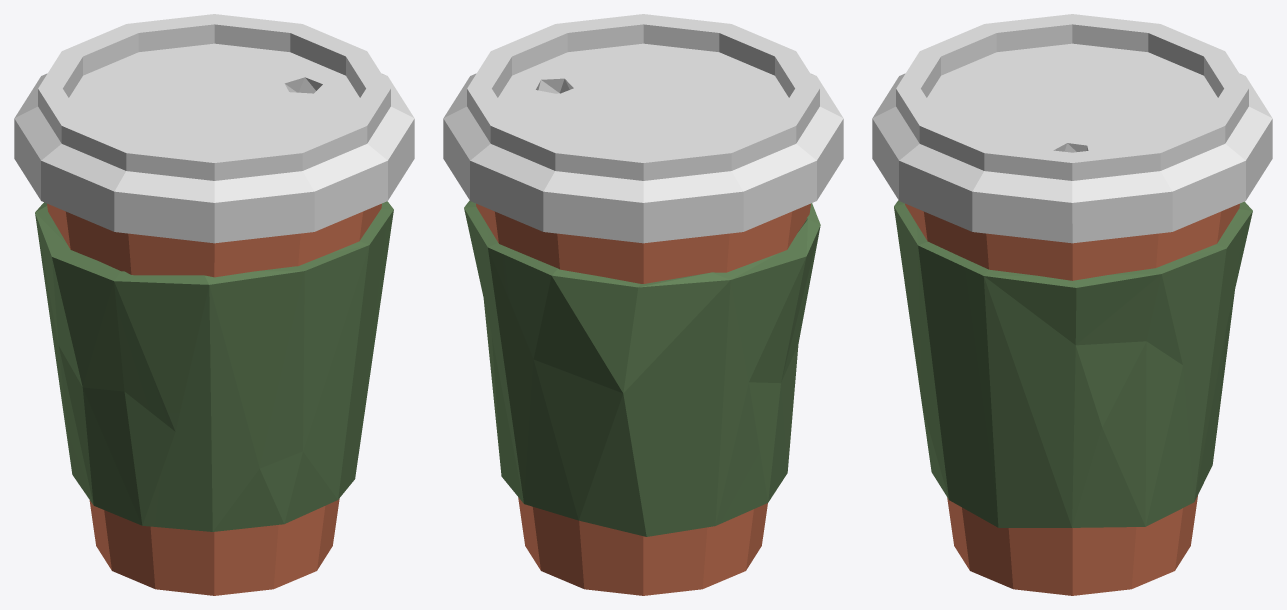
The model's file is Cup_02.fbx.
3 views of the same model, side by side, from view 1: azimuth 30°, elevation 25°; view 2: azimuth 150°, elevation 25°; view 3: azimuth 270°, elevation 25° (orthographic).
Parts seen in each view (by area): view 1: Cup_02; view 2: Cup_02; view 3: Cup_02.
Boxes of the visible parts, x1=… form: Cup_02: x1=14, y1=14, x2=414, y2=595; Cup_02: x1=443, y1=14, x2=843, y2=595; Cup_02: x1=872, y1=14, x2=1272, y2=595.
Bounding box in the file's own units: 12.66 × 15.96 × 12.66.
